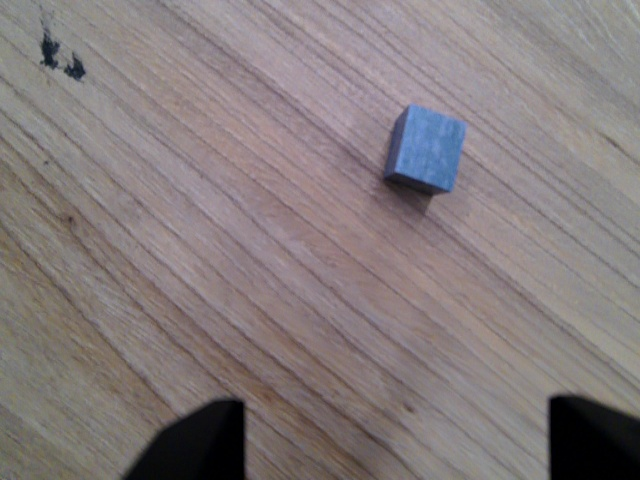stone: (383, 103, 465, 196)
